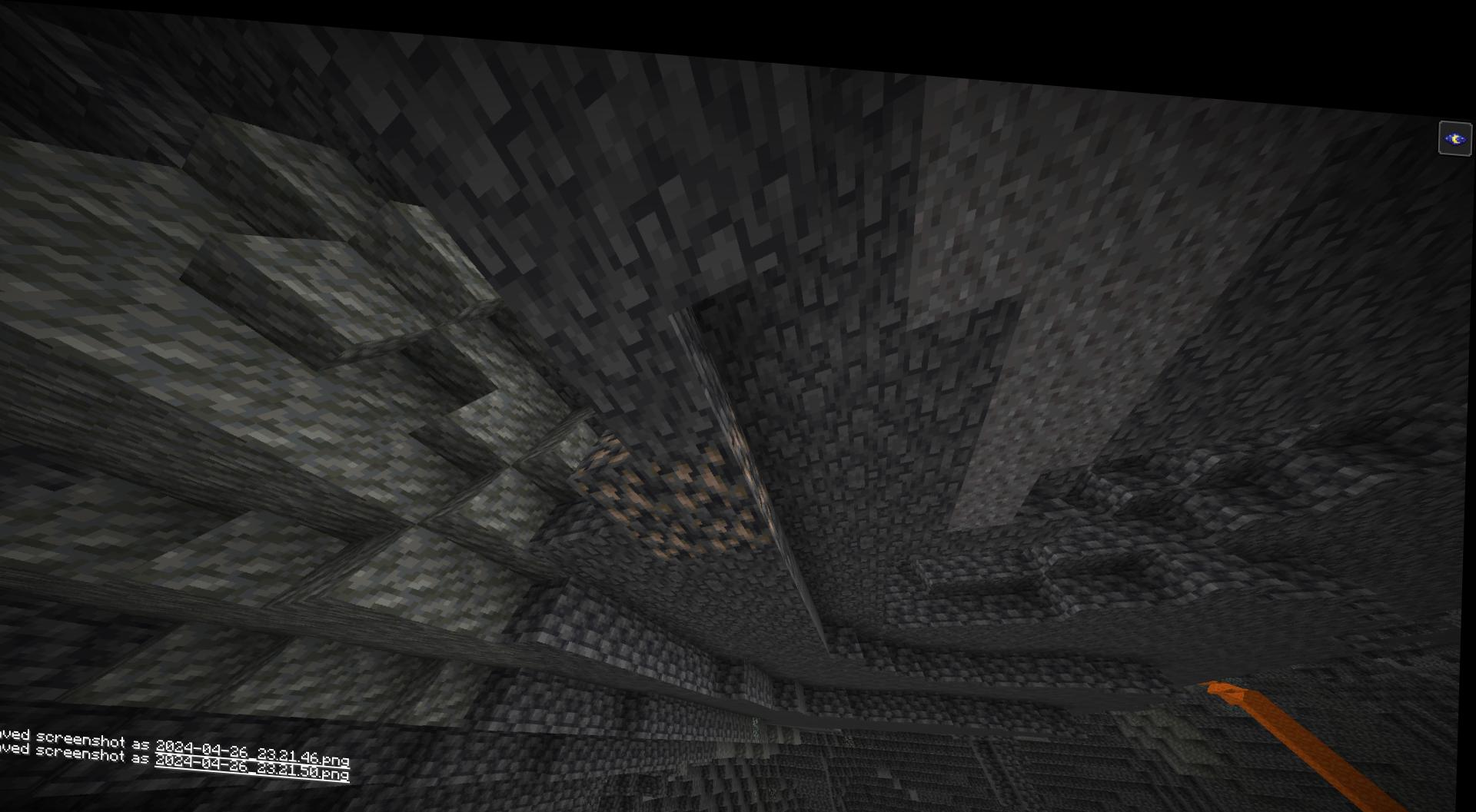diamond ore: (1282, 794, 1323, 812)
iron ore: (578, 419, 667, 506), (661, 425, 743, 493), (626, 501, 700, 561), (702, 492, 772, 548)
